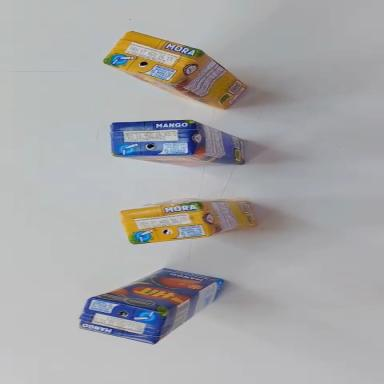HIT-MANGO: (72, 249, 235, 368), (111, 120, 245, 168)
HIT-MORA: (99, 26, 253, 115), (120, 194, 257, 245)
cara_F: (90, 256, 220, 321), (102, 64, 227, 110), (115, 153, 244, 169)
